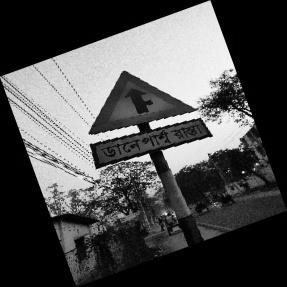Side-road-right: (91, 70, 212, 169)
